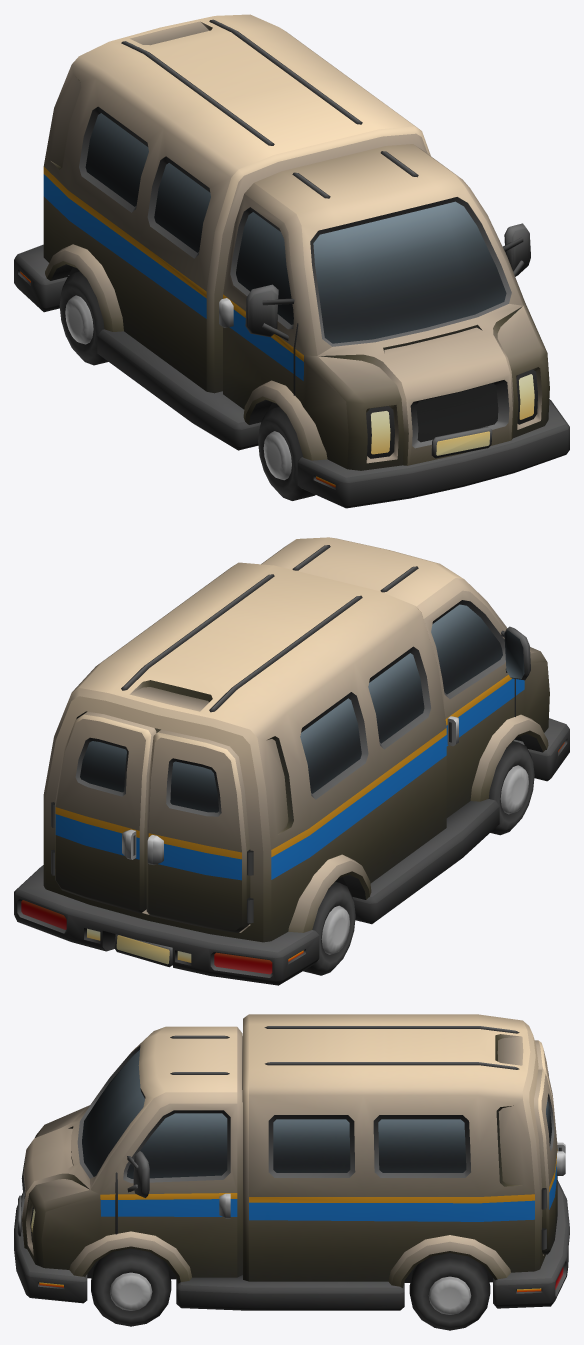
File: Car_2E.fbx
3 views of the same model, one above another, from view 1: azimuth 30°, elevation 25°; view 2: azimuth 150°, elevation 25°; view 3: azimuth 270°, elevation 25° (orthographic). The views are drawn at different scales.
Parts seen in each view (by area): view 1: Car_2E, Wheel_2E_F.R, Wheel_2E_R.R; view 2: Car_2E, Door_2E_R.R, Door_2E_R.L, Wheel_2E_F.R, Wheel_2E_R.R; view 3: Car_2E, Wheel_2E_F.L, Wheel_2E_R.L, Door_2E_R.L, Door_2E_R.R.
Boxes of the visible parts, left/top/right/bottom form: Car_2E: left=14, top=14, right=569, bottom=508; Wheel_2E_F.R: left=258, top=407, right=315, bottom=500; Wheel_2E_R.R: left=59, top=271, right=108, bottom=365; Car_2E: left=14, top=537, right=569, bottom=985; Door_2E_R.R: left=146, top=729, right=253, bottom=932; Door_2E_R.L: left=51, top=711, right=156, bottom=913; Wheel_2E_F.R: left=488, top=741, right=534, bottom=835; Wheel_2E_R.R: left=303, top=882, right=355, bottom=975; Car_2E: left=14, top=1014, right=569, bottom=1310; Wheel_2E_F.L: left=91, top=1248, right=171, bottom=1326; Wheel_2E_R.L: left=409, top=1253, right=490, bottom=1330; Door_2E_R.L: left=534, top=1069, right=565, bottom=1254; Door_2E_R.R: left=535, top=1040, right=565, bottom=1153.
Size of the model in its own units: 274 by 259 by 553.
